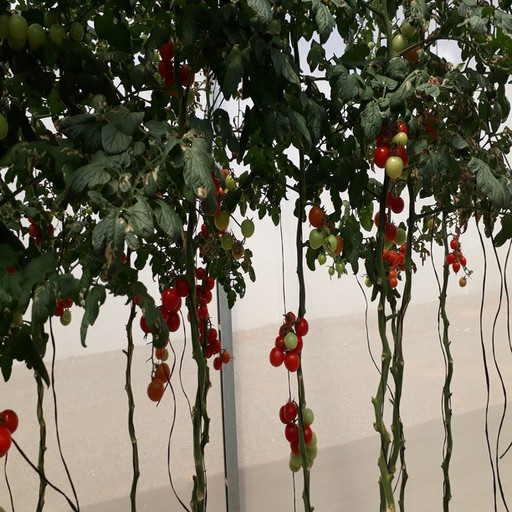green tomato bunch: (1, 14, 89, 49), (366, 16, 423, 60), (306, 205, 345, 268)
mixed tomato bunch: (24, 210, 72, 326), (280, 403, 319, 475), (368, 187, 411, 244), (372, 117, 406, 182), (368, 242, 407, 297), (195, 222, 248, 262)
red tomato bunch: (149, 277, 188, 402), (192, 268, 229, 370), (158, 35, 195, 99), (270, 311, 307, 374), (448, 238, 468, 277)
